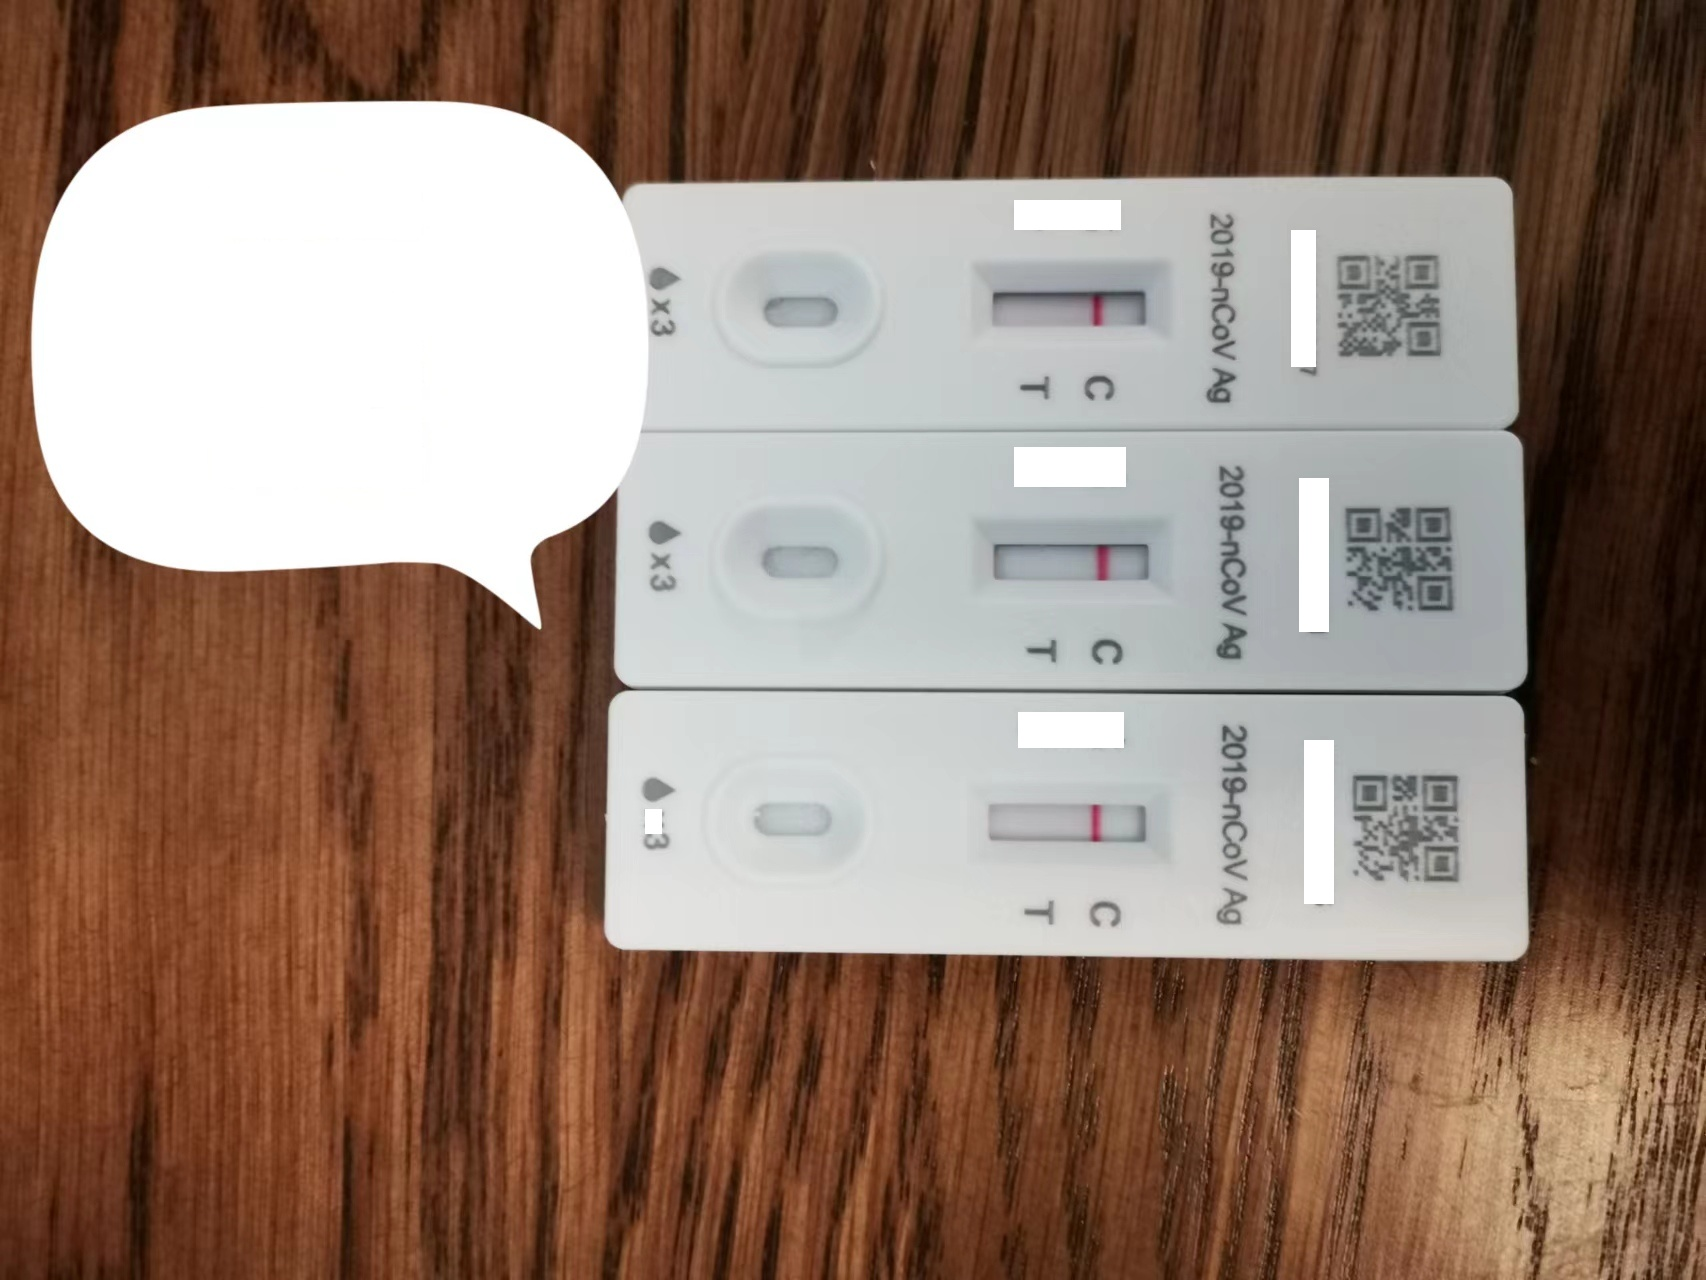negative: (971, 259, 1174, 352), (977, 516, 1170, 605), (979, 785, 1175, 866)
